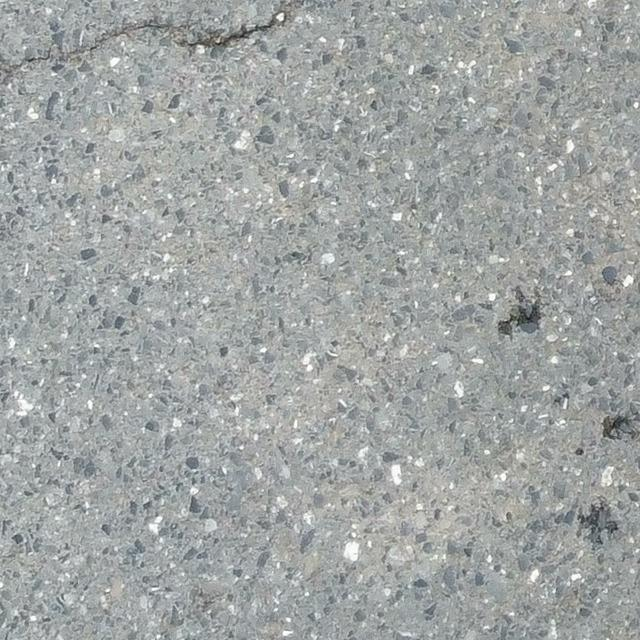TransverseCrack: (1, 1, 305, 87)
